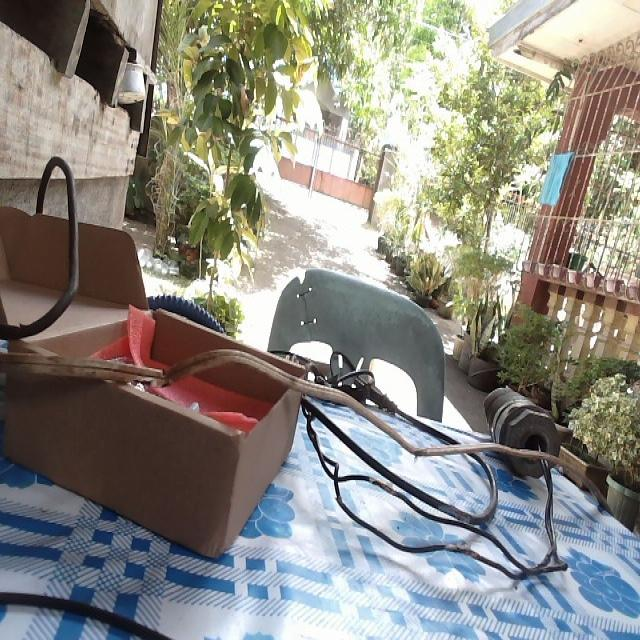-: (367, 471, 399, 498), (445, 536, 476, 557), (411, 447, 430, 460)
